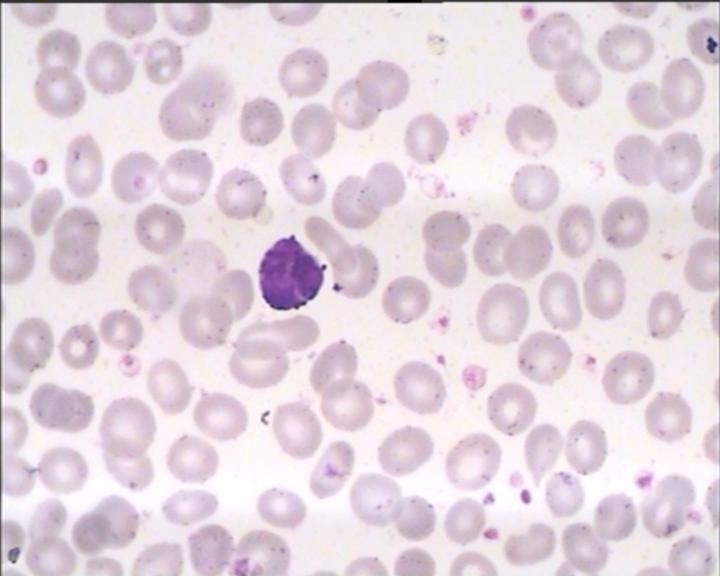baso: (251, 235, 327, 312)
